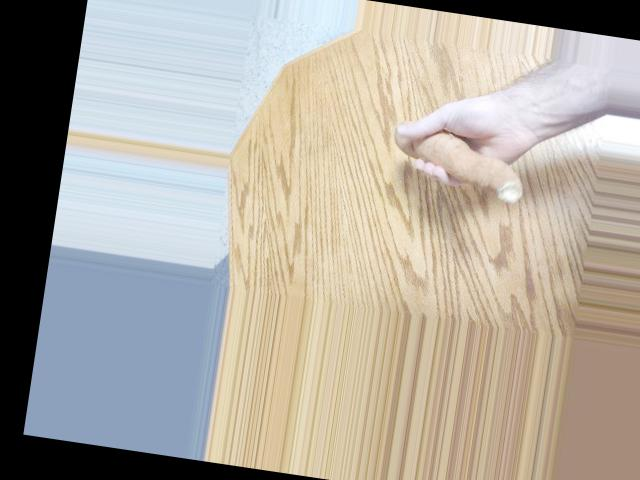sweet_potato: (380, 124, 538, 203)
